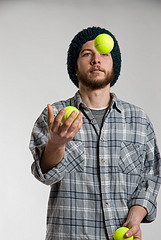tennis ball: (59, 105, 83, 127), (93, 33, 114, 55), (112, 225, 136, 240)
